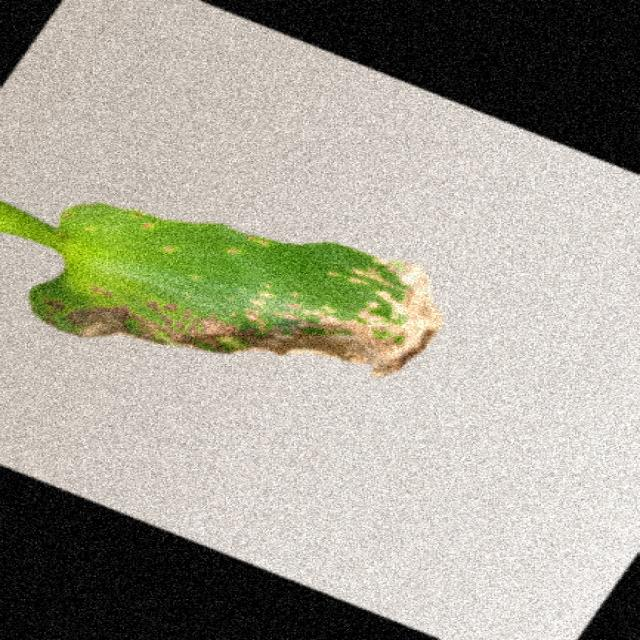daun berpenyakit bercak: (0, 202, 441, 376)
